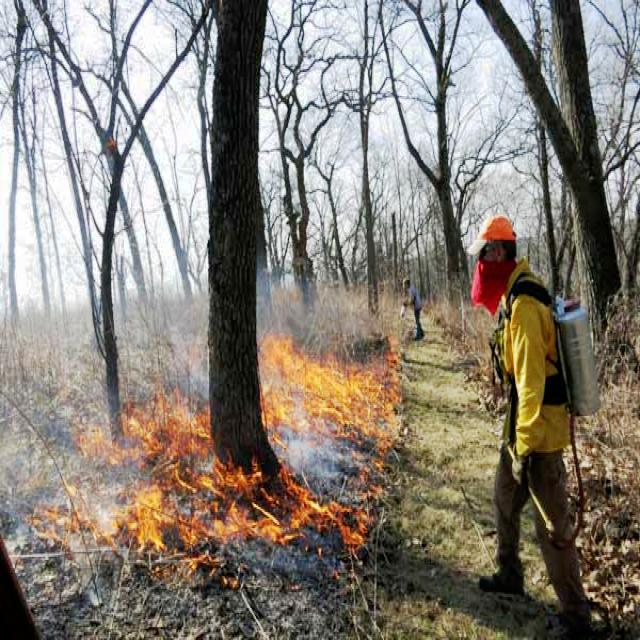api: (273, 344, 404, 433), (129, 398, 212, 470), (126, 490, 186, 562), (193, 454, 275, 498), (210, 510, 286, 544), (77, 508, 125, 559), (295, 478, 329, 527), (87, 432, 126, 470), (339, 514, 371, 555)
asap: (287, 440, 348, 483)
